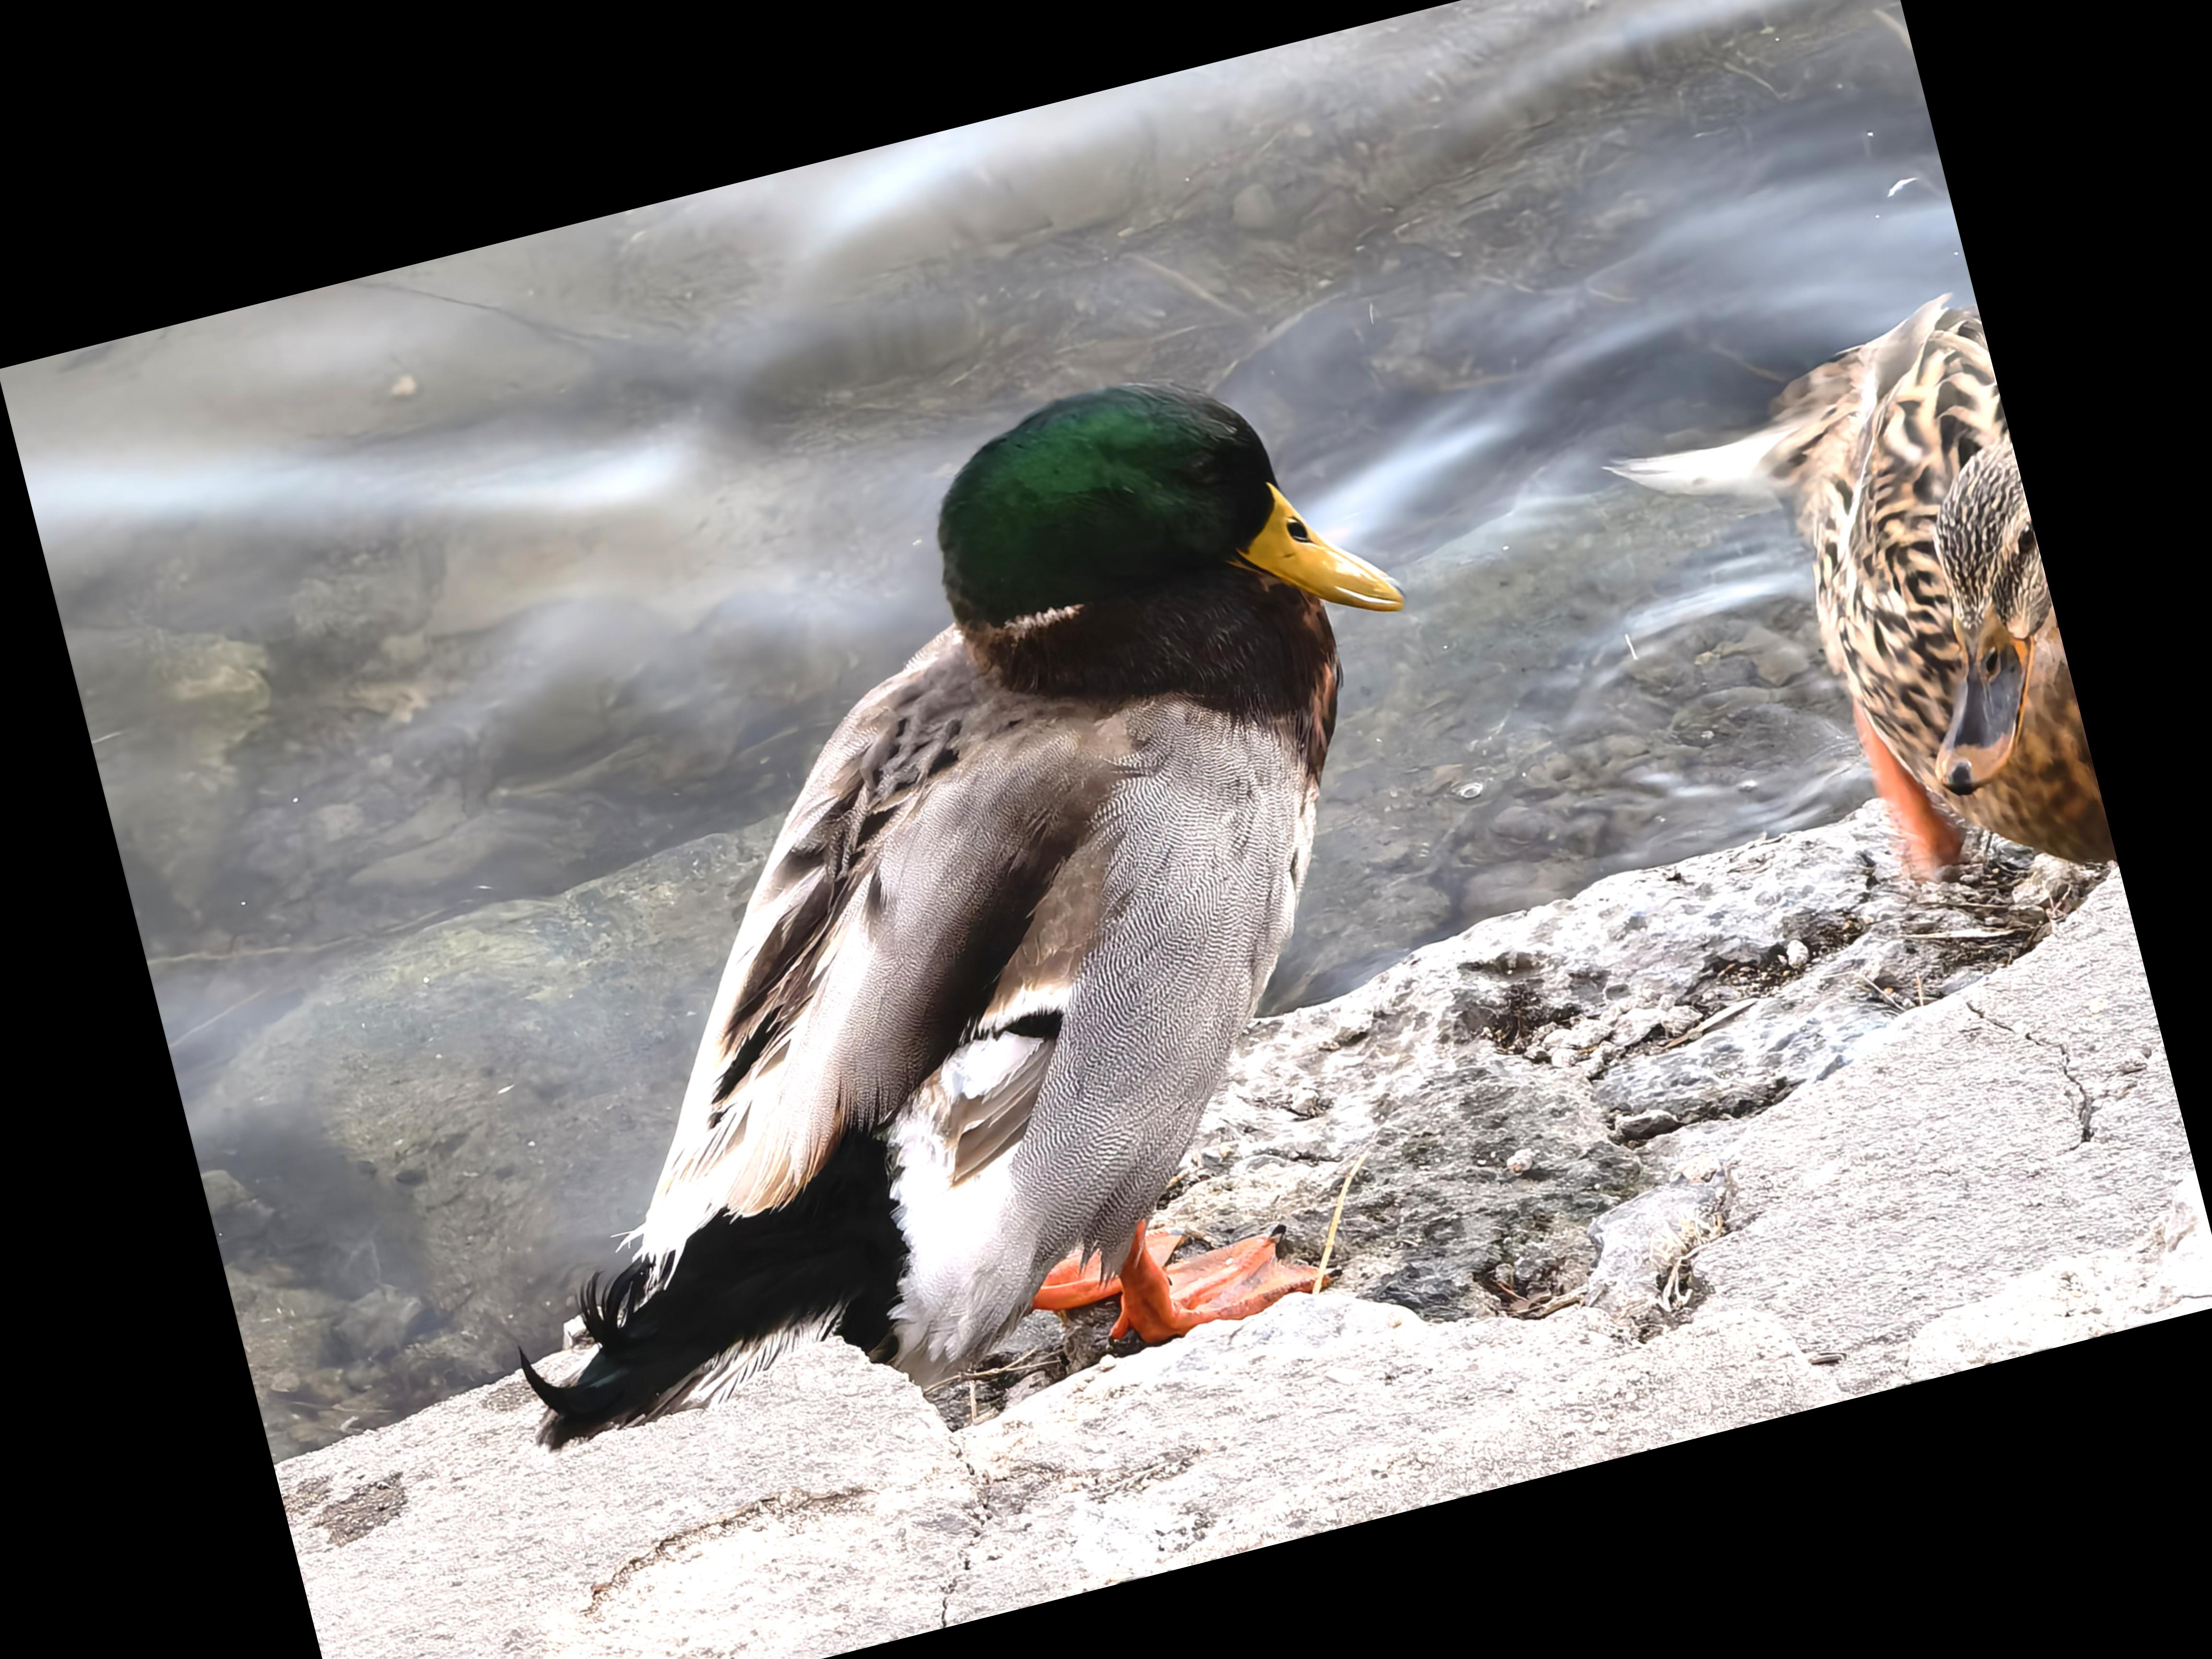duck: (298, 265, 1583, 1480), (1583, 235, 2116, 955)
